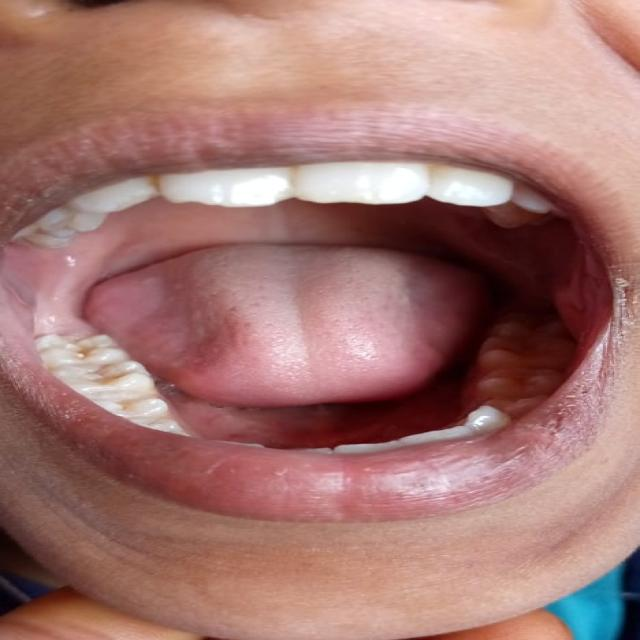No Cancer: (222, 288, 428, 374)
